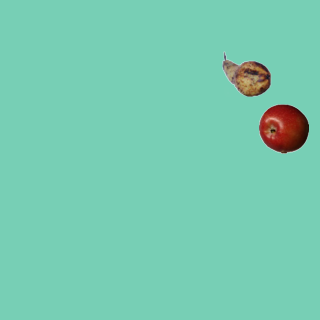Apple Braeburn: (258, 103, 308, 153)
Pear Abate: (221, 49, 271, 99)
